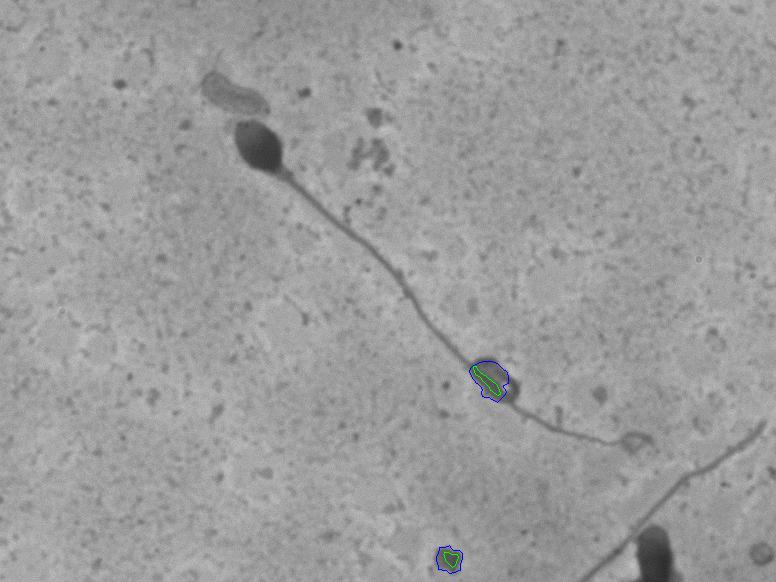Normal: (149, 114, 633, 525)
